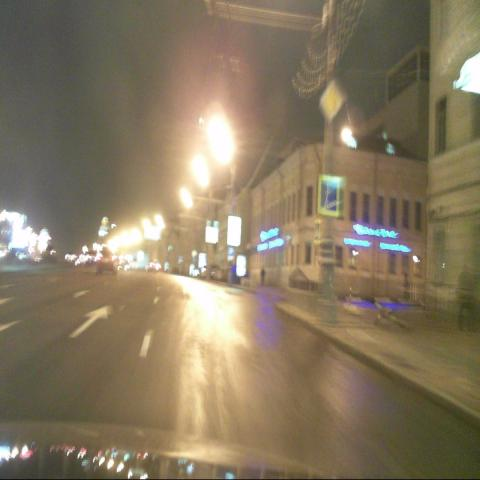6_6: (317, 176, 340, 218)
